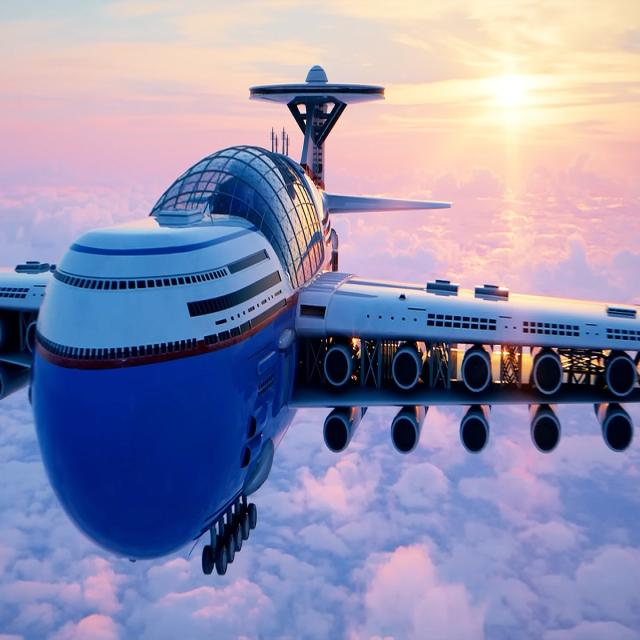aircraft: (5, 53, 640, 604)
